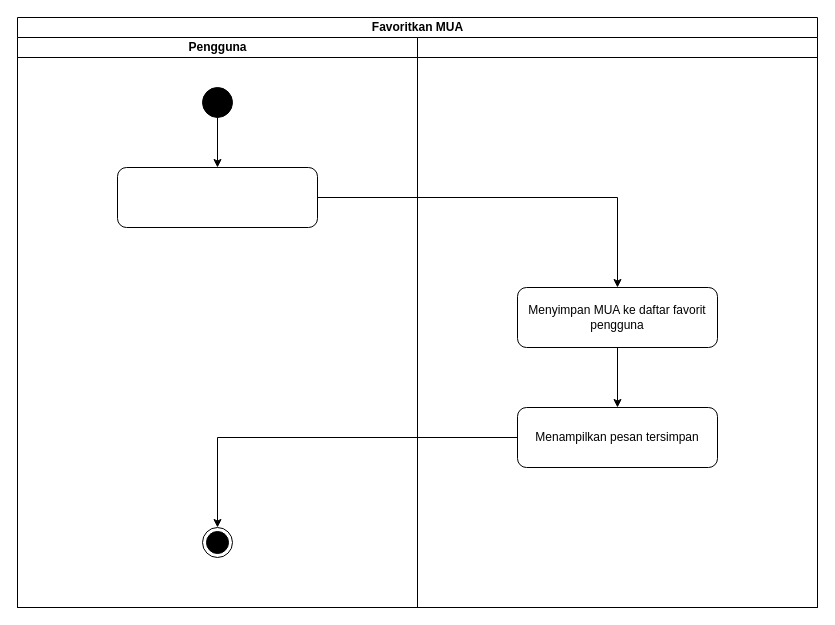
The diagram is 835 pixels wide and 625 high, and some of its shapes have lost their labels. Each missing label, with the box of its shape:
Klik ikon hati pada profil MUA: (116, 166, 318, 228)
Sistem: (416, 36, 818, 608)
